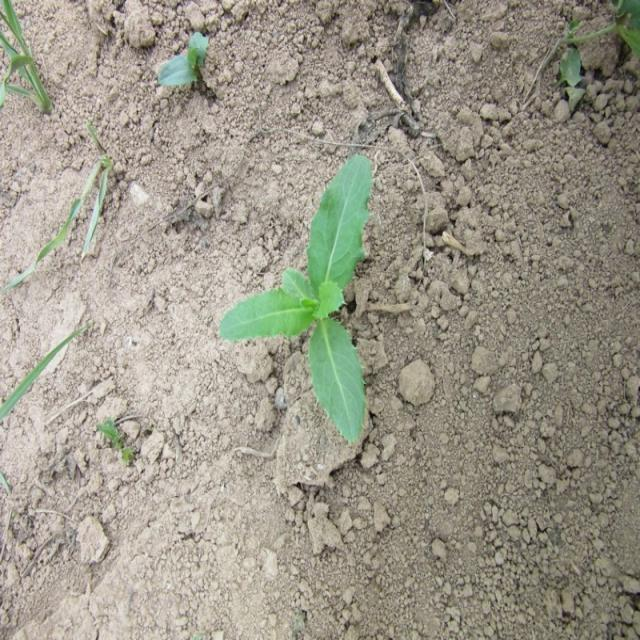field_thistle: (222, 162, 380, 447)
